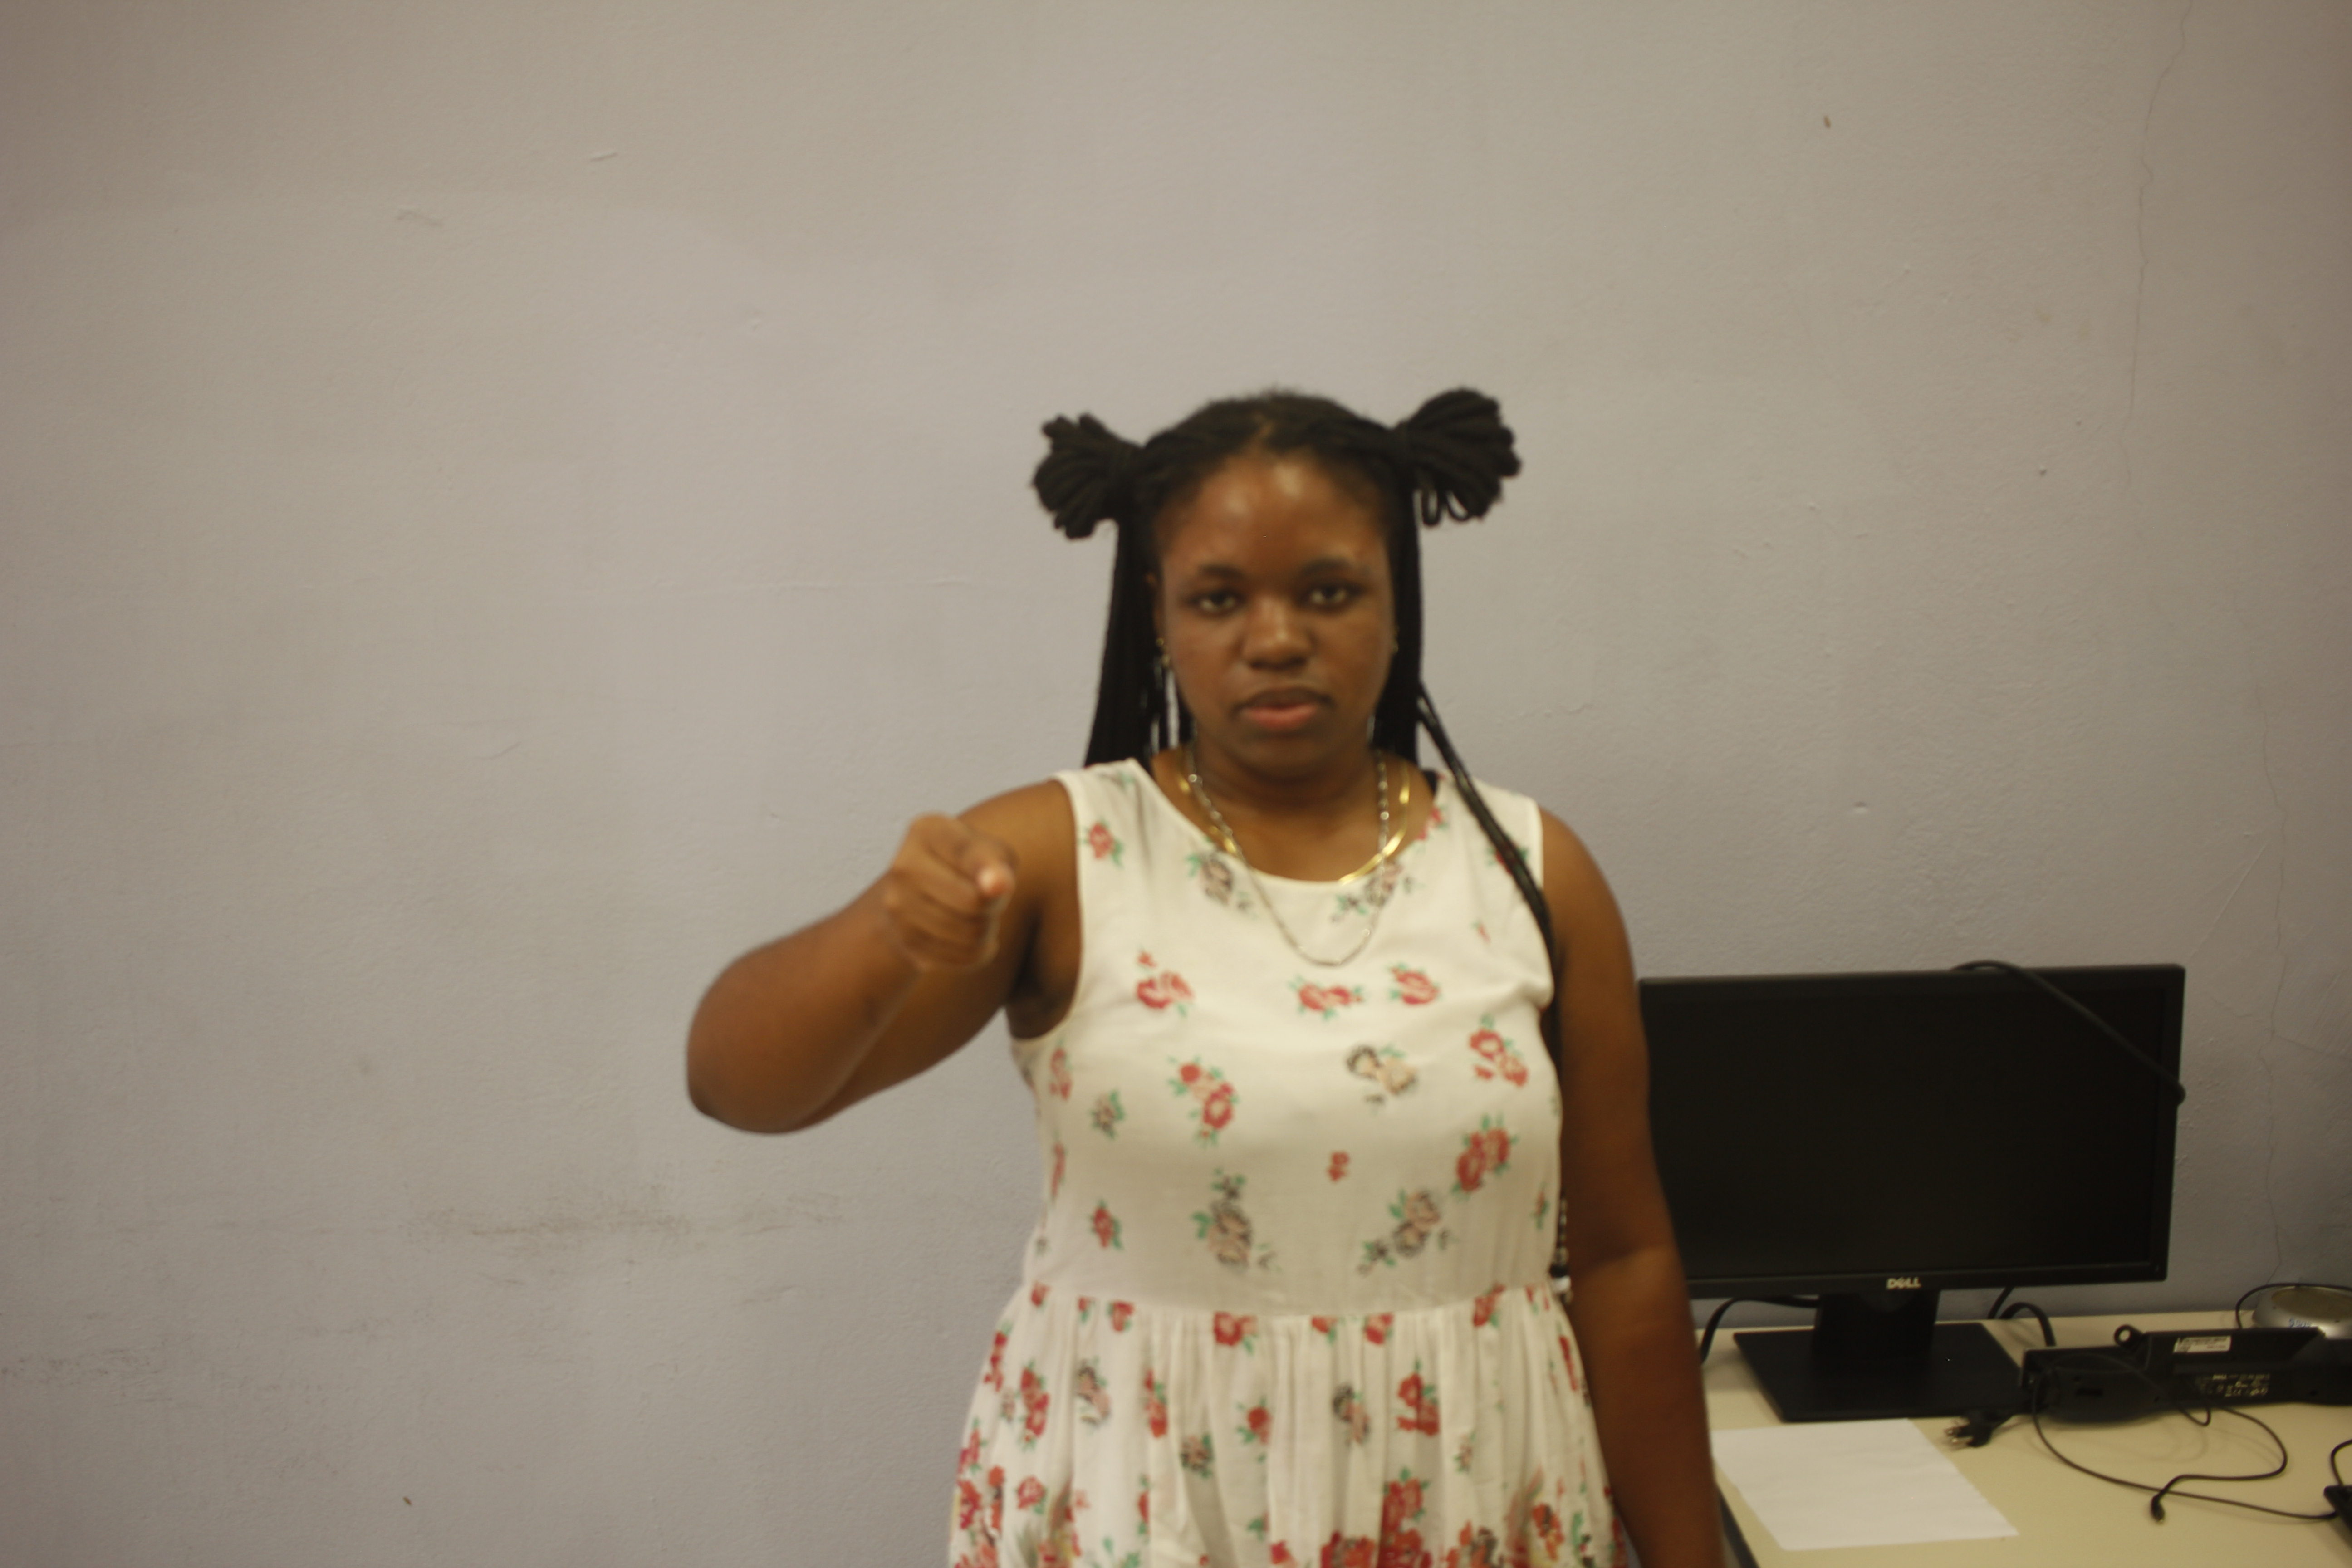point: (875, 791, 1024, 994)
